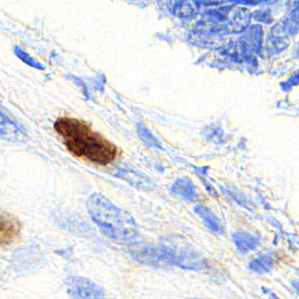Lymphocyte: (54, 115, 121, 167)
